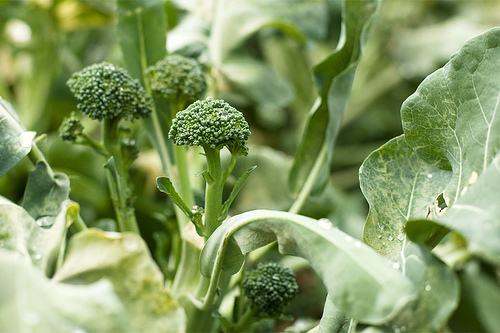broccoli: (58, 59, 156, 251), (167, 98, 249, 233), (147, 50, 209, 127), (246, 259, 300, 323)
